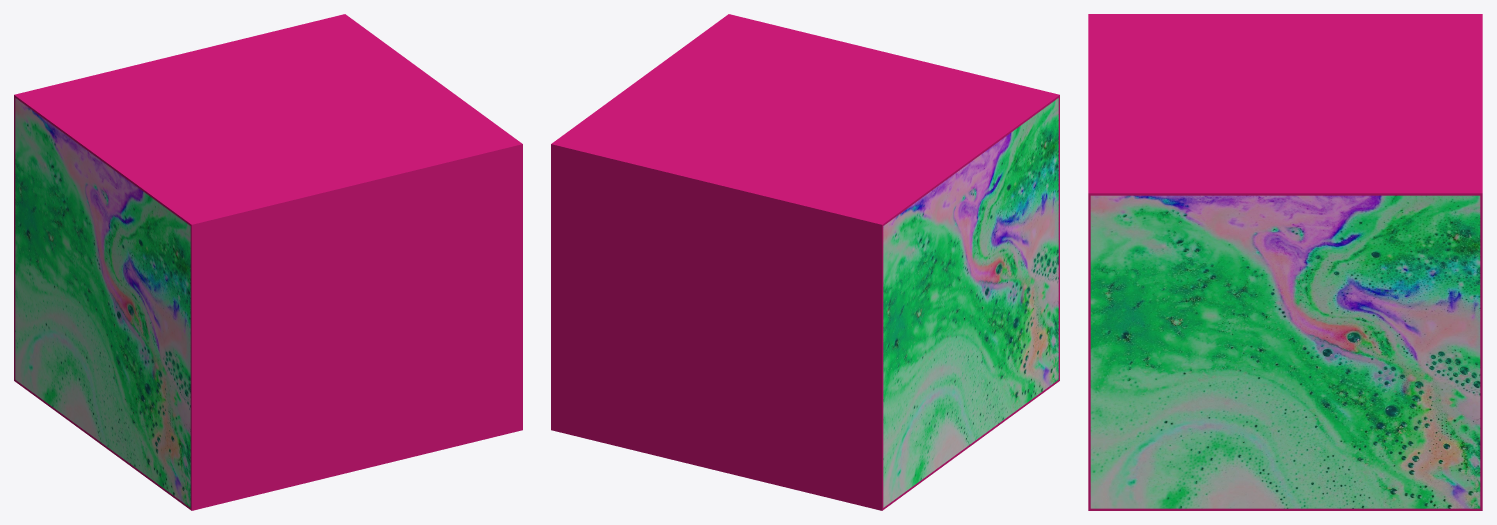
3 renders of one model, left to right at view 1: azimuth 30°, elevation 25°; view 2: azimuth 150°, elevation 25°; view 3: azimuth 270°, elevation 25°, orthographic. The views are drawn at different scales.
Parts seen in each view (by area): view 1: MIN#5.001_Mesh_16.005, MAXI_EDXTRA#1.001_Mesh_31.004; view 2: MIN#5.001_Mesh_16.005, MAXI_EDXTRA#1.001_Mesh_31.004; view 3: MAXI_EDXTRA#1.001_Mesh_31.004, MIN#5.001_Mesh_16.005.
Part boxes in pixels (left/top/right/bottom): MIN#5.001_Mesh_16.005: left=14, top=14, right=522, bottom=510; MAXI_EDXTRA#1.001_Mesh_31.004: left=15, top=98, right=190, bottom=507; MIN#5.001_Mesh_16.005: left=551, top=14, right=1059, bottom=510; MAXI_EDXTRA#1.001_Mesh_31.004: left=883, top=98, right=1058, bottom=507; MAXI_EDXTRA#1.001_Mesh_31.004: left=1090, top=195, right=1480, bottom=508; MIN#5.001_Mesh_16.005: left=1088, top=14, right=1482, bottom=510.
Bounding box in the file's own units: 0.327 × 0.27 × 0.304.
2 materials, 1 textured.
